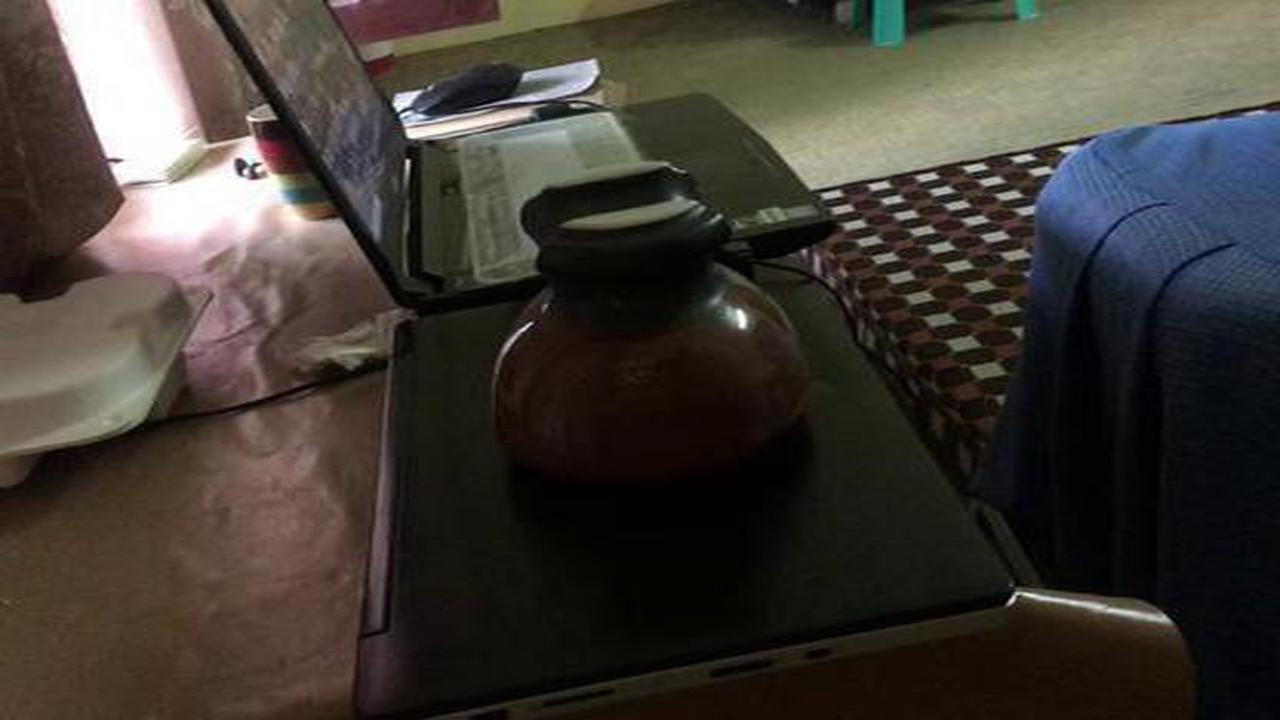insulator_pin: (477, 144, 828, 508)
